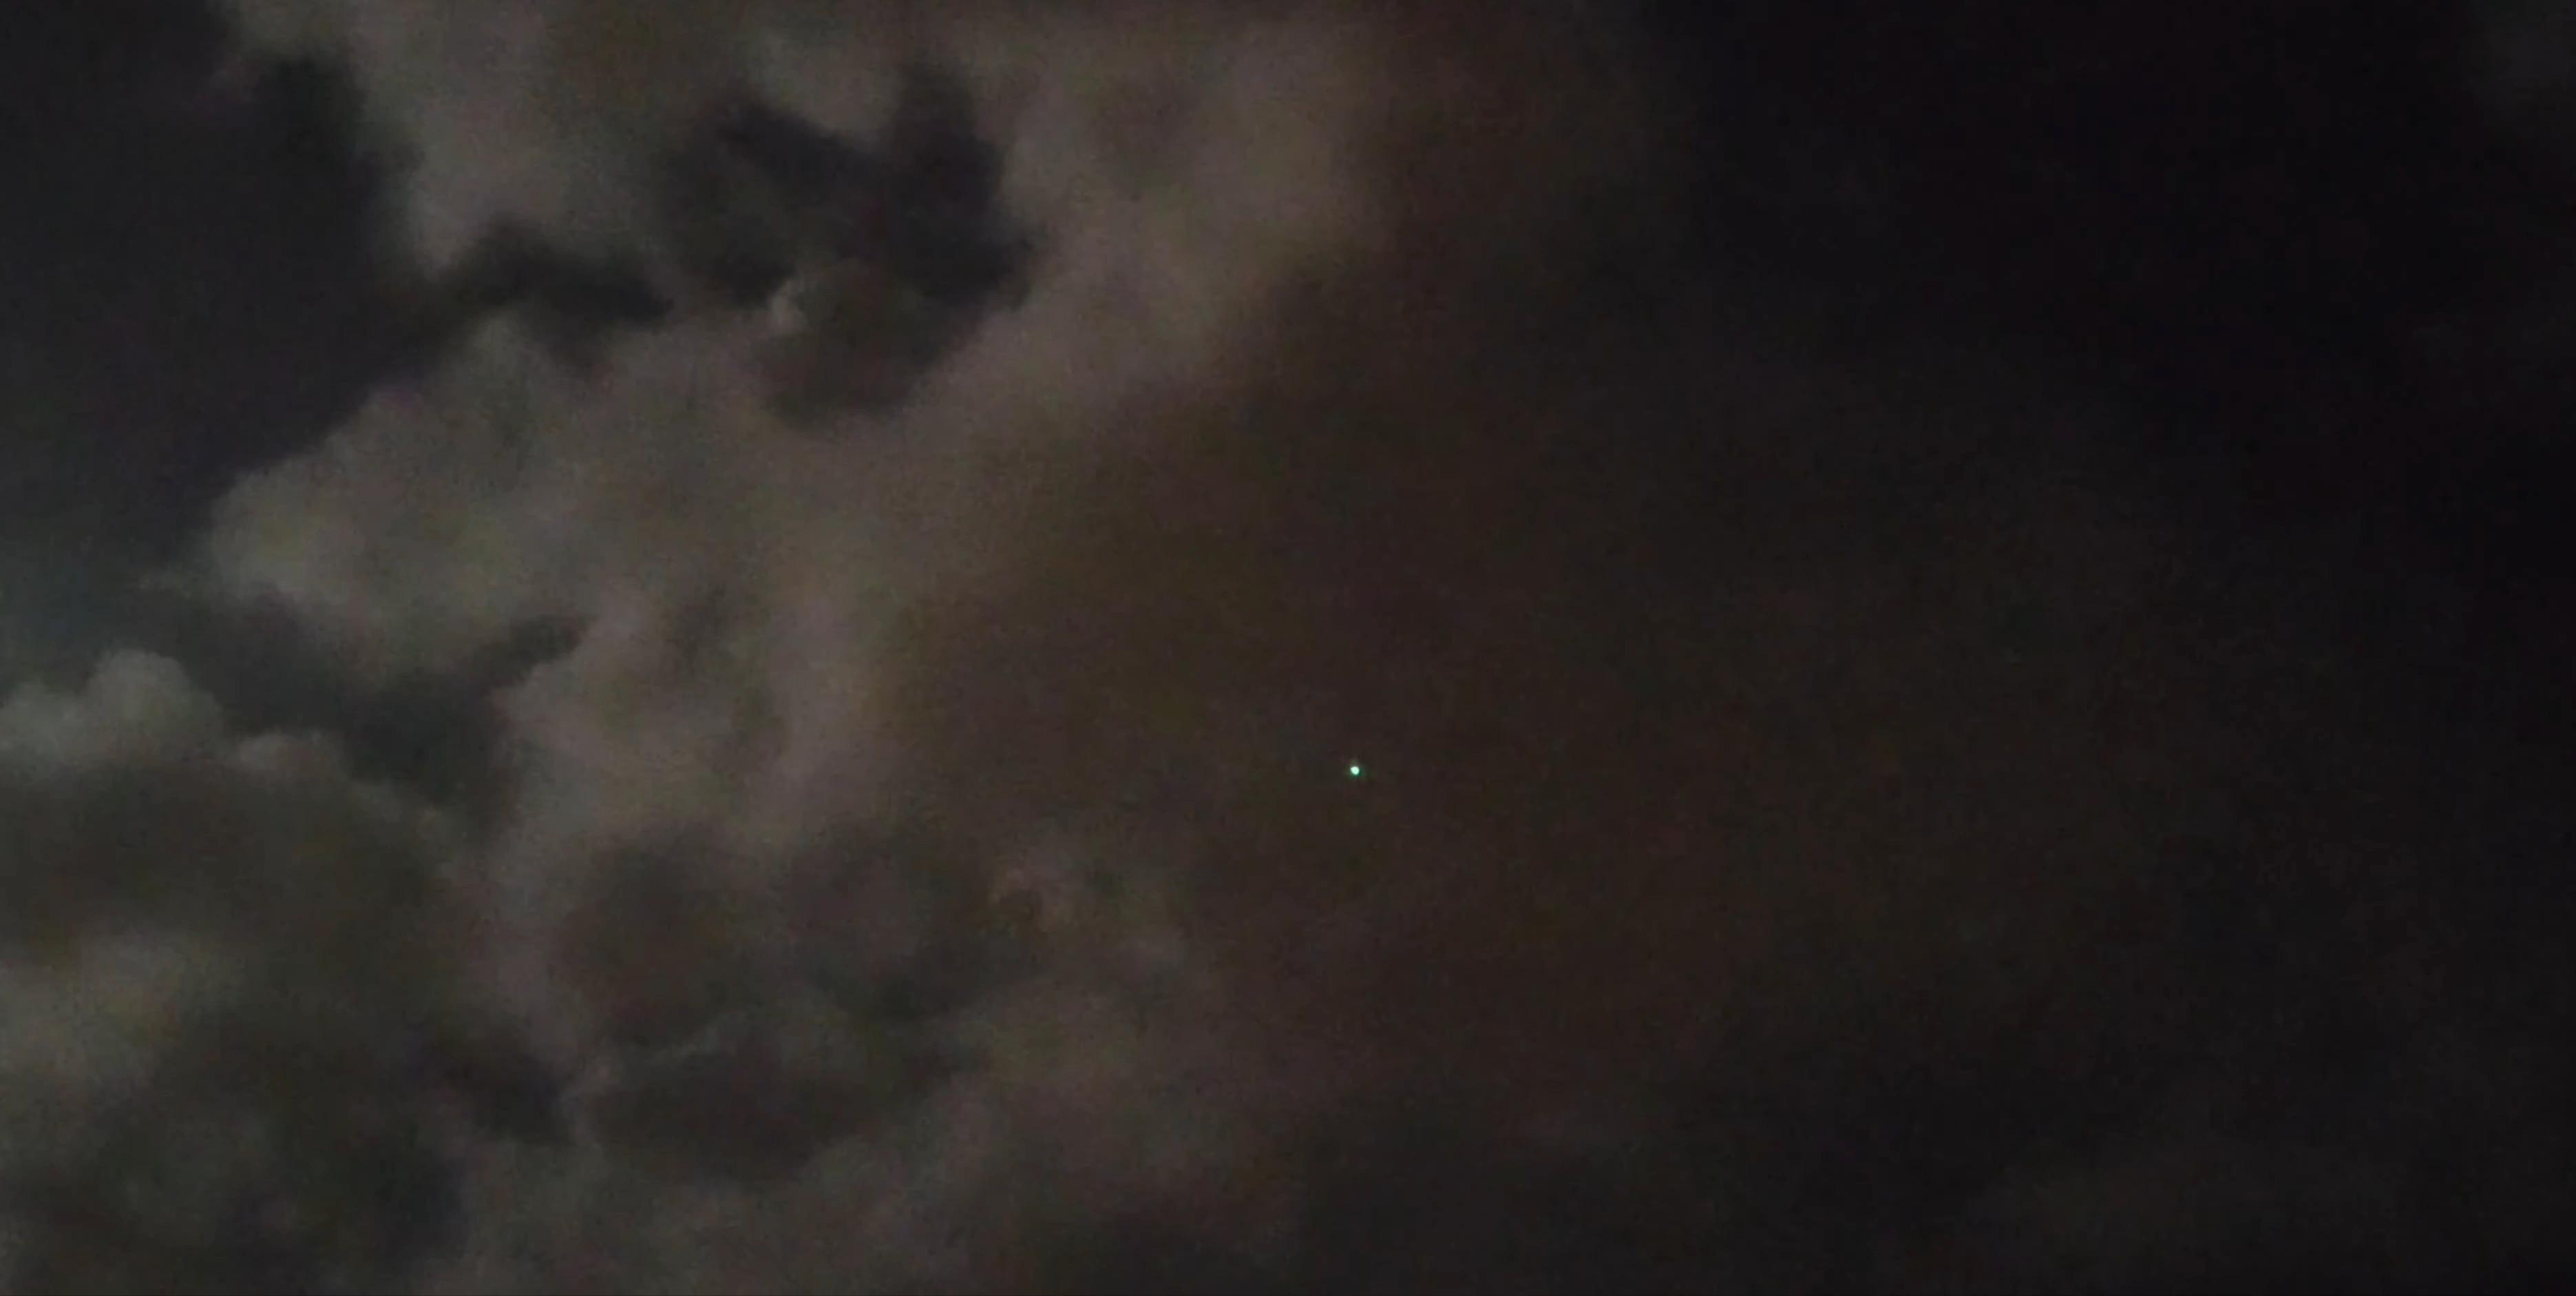Plane: (1337, 747, 1385, 789)
